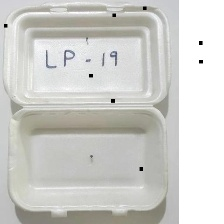foam_box: (0, 0, 176, 220)
